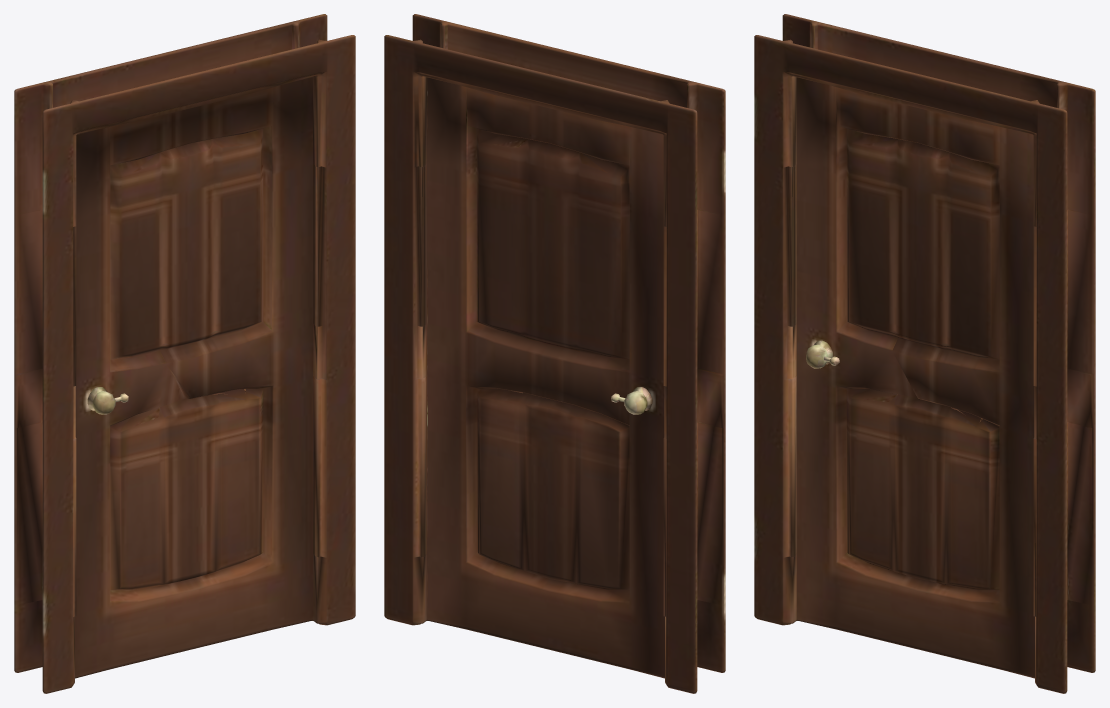
File: door.glb
The picture shows the model from 3 angles, left to right: view 1: azimuth 30°, elevation 25°; view 2: azimuth 150°, elevation 25°; view 3: azimuth 330°, elevation 25°; orthographic projection.
Bounding box in the file's own units: 1.07 × 1.91 × 0.2309.
1 material, 1 textured.
